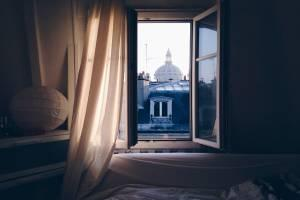window: (132, 7, 217, 146)
